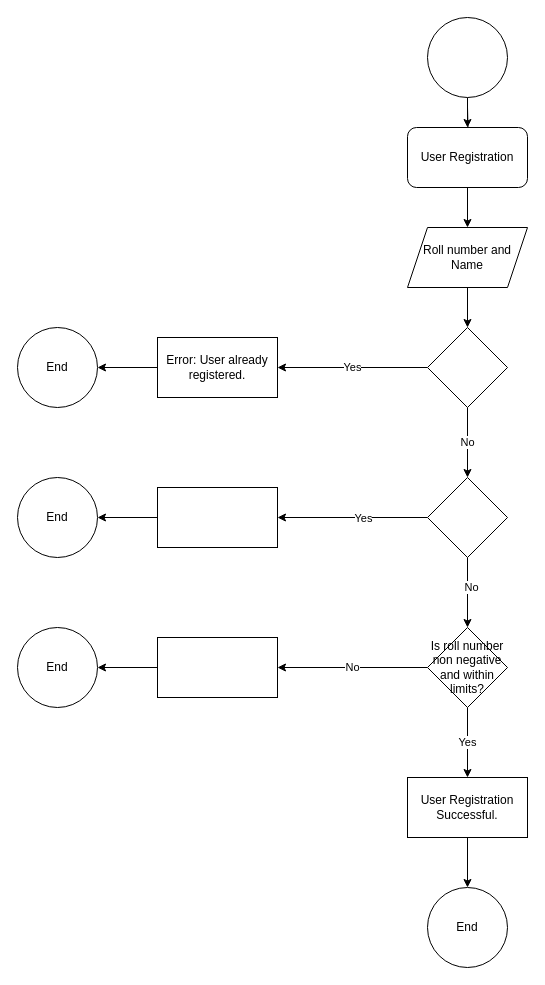
Image size: 545x985. Some labels were removed from this diagram. The centre of each missing label's shape, as x and y in pixels:
"Error: Invalid Roll Number" goes at (x=217, y=667).
"Error: Roll number already registered" goes at (x=217, y=517).
"Roll number already exists?" goes at (x=467, y=517).
"Start" goes at (x=467, y=57).
"User already registered?" goes at (x=467, y=367).
